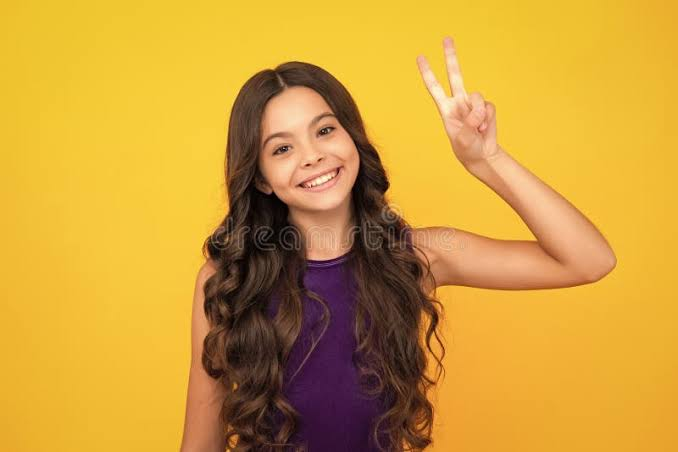peace_sign: (414, 27, 504, 159)
